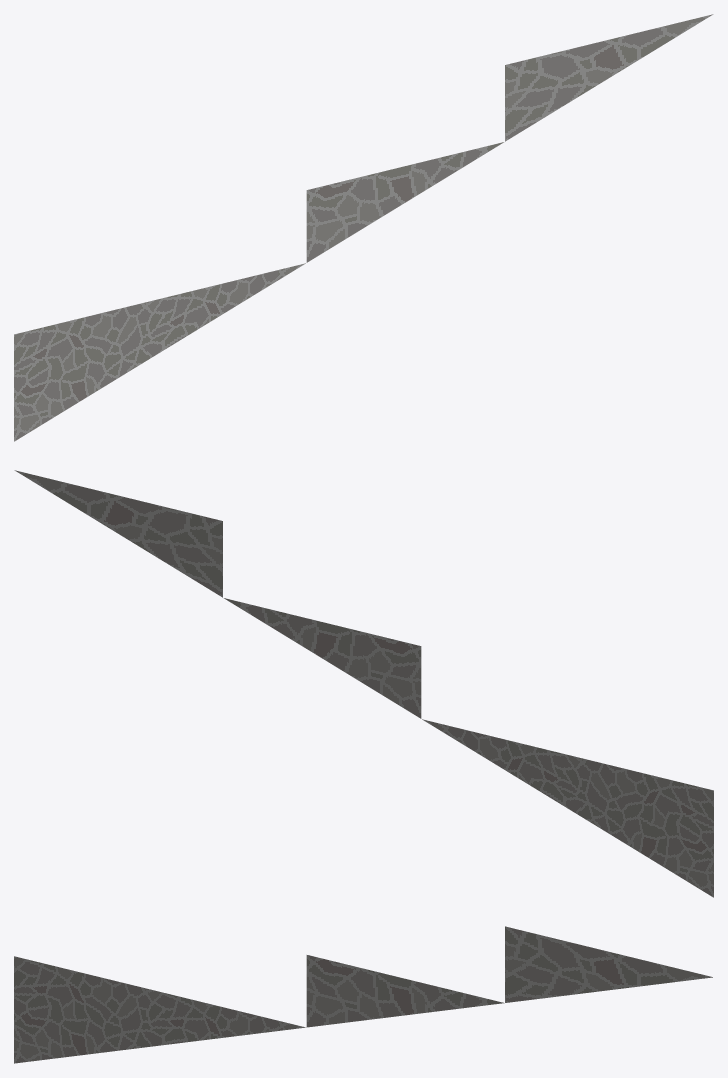
Rendered from kd_stage_135ebf_1_0.glb.
3 renders of one model, top to bottom at view 1: azimuth 30°, elevation 25°; view 2: azimuth 150°, elevation 25°; view 3: azimuth 330°, elevation 25°, orthographic.
Visible parts, largest first — view 1: kd_stage_135ebf_1_0; view 2: kd_stage_135ebf_1_0; view 3: kd_stage_135ebf_1_0.
Boxes of the visible parts, left/top/right/bottom form: kd_stage_135ebf_1_0: left=14, top=14, right=713, bottom=441; kd_stage_135ebf_1_0: left=14, top=470, right=713, bottom=897; kd_stage_135ebf_1_0: left=14, top=926, right=712, bottom=1063.
Size of the model in its own units: 19.1 by 6.7 by 3.81e-06.
1 material, 1 textured.
